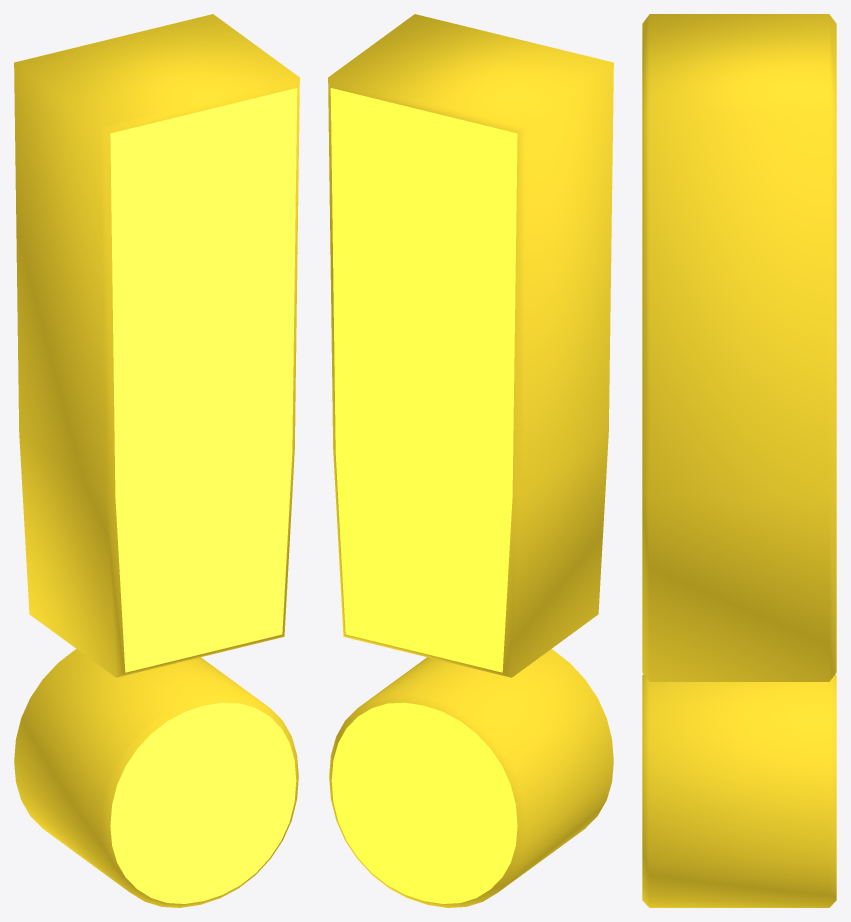
The picture shows the model from 3 angles, left to right: view 1: azimuth 30°, elevation 25°; view 2: azimuth 150°, elevation 25°; view 3: azimuth 270°, elevation 25°; orthographic projection. The views are drawn at different scales.
Parts seen in each view (by area): view 1: glyph; view 2: glyph; view 3: glyph.
Part boxes in pixels (bbox=[...]): glyph: bbox=[14, 14, 299, 907]; glyph: bbox=[328, 14, 613, 907]; glyph: bbox=[642, 14, 836, 907].
Size of the model in its own units: 0.0199 by 0.0766 by 0.0162.
